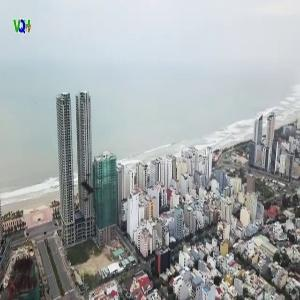drone: (53, 152, 123, 222)
